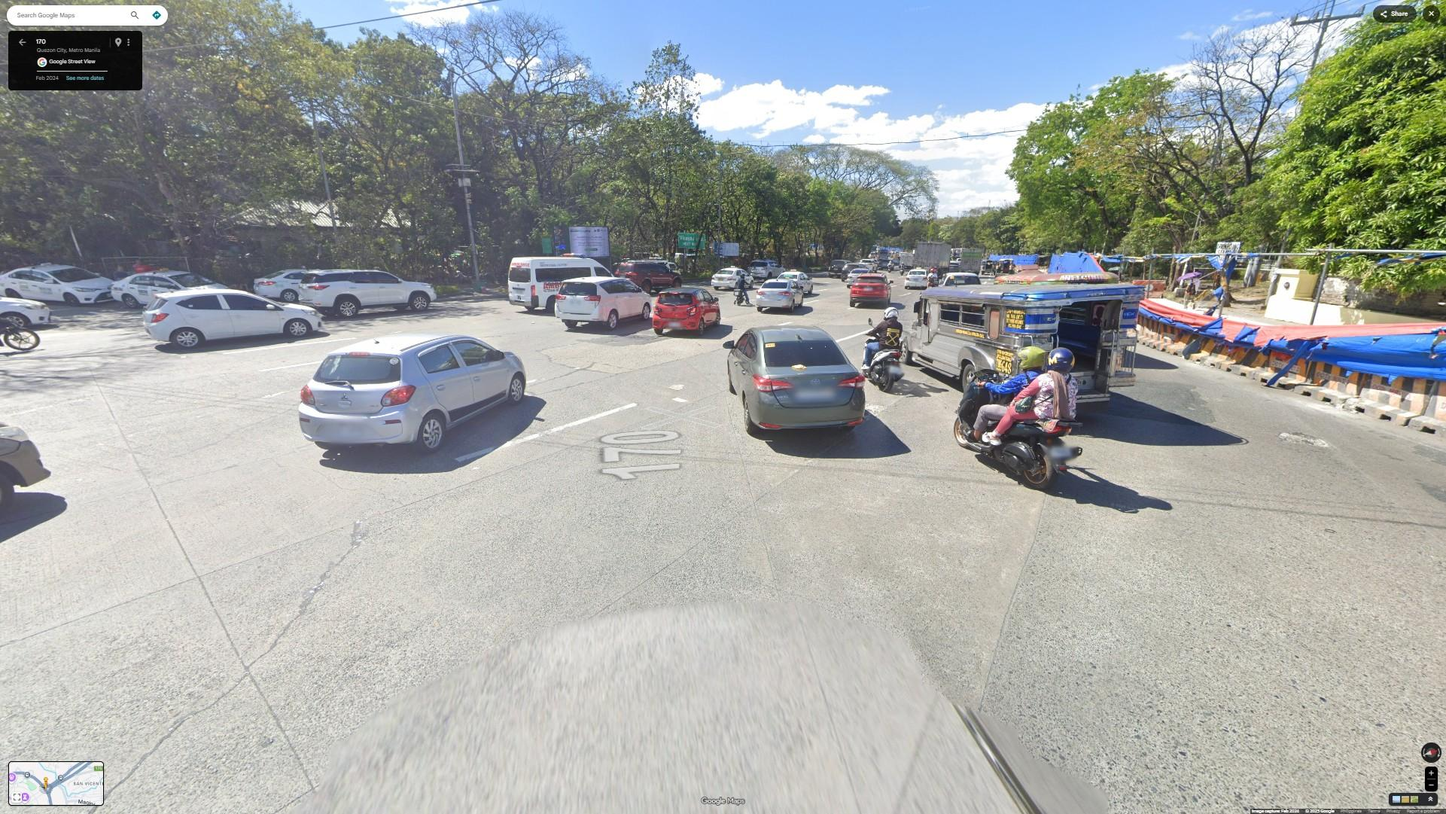pedestrian: (1180, 278, 1197, 311)
